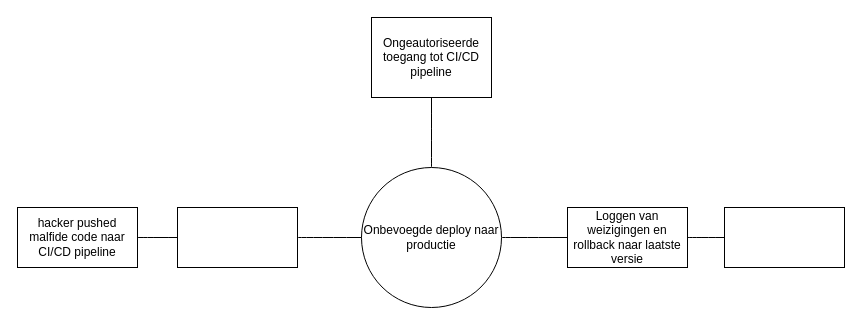
This 862x325 diagram has some shape labels left out. The shapes that lost their labels are listed below. From the top down, each one's centre as x and y in pixels, then its label:
At (x=237, y=237): "Enviroment protection rules".
At (x=784, y=237): "Supply chain attack".
